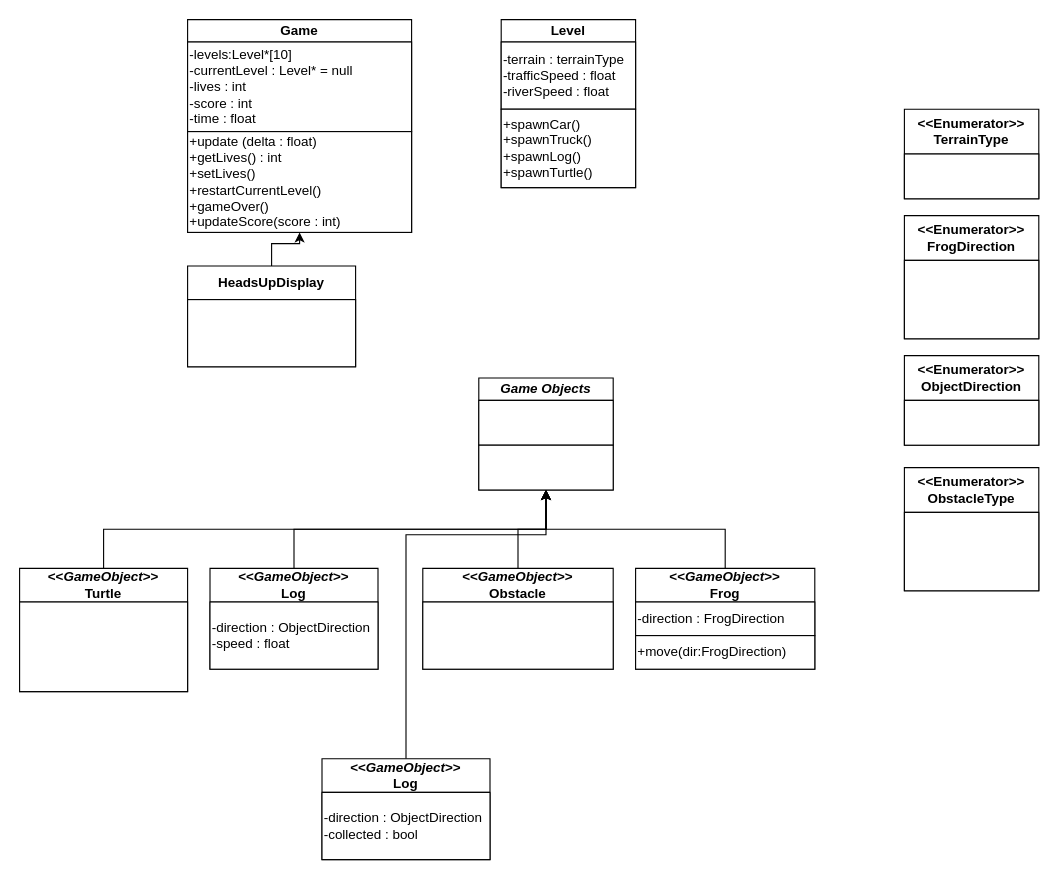
Some shapes in this 1058 by 879 pixel diagram are drawn without their labels. Each missing label, with the centre of its shape:
+spawn(): the point at 545,467
-currentScore : string -hiScore : string: the point at 271,332
-direction : ObjectDirection -obstacleType : ObstacleType -speed : float: the point at 517,635
-direction : ObjectDirection -speed : float -sinkTimer : float -isSafe : bool: the point at 103,646
-x : float -y : float: the point at 545,422
Car Truck Crocodile Snake: the point at 971,551
Concrete Water: the point at 971,176
Left Right: the point at 971,422
Up Down Left Right: the point at 971,299
